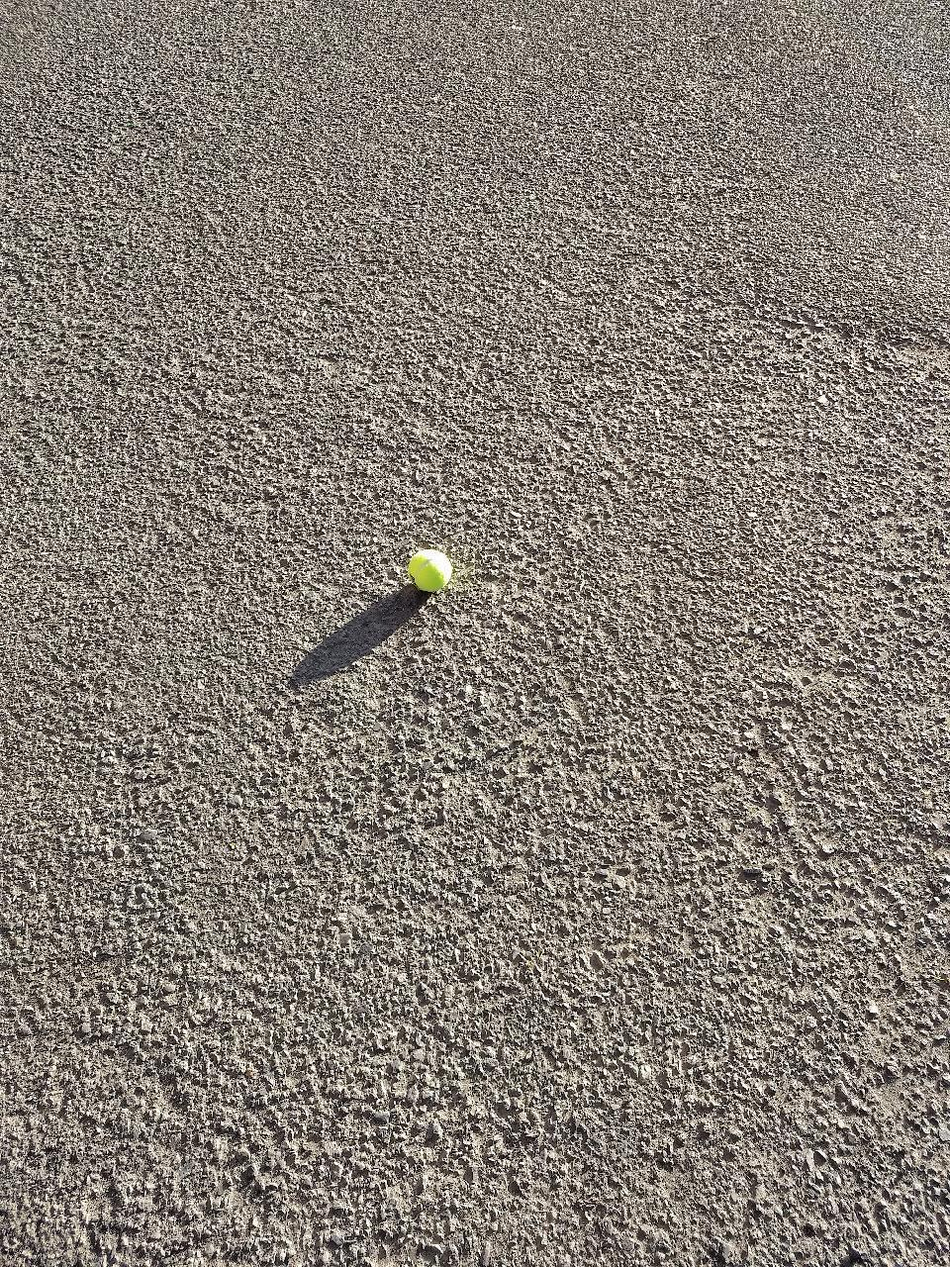Tennis_Ball: (401, 538, 462, 607)
